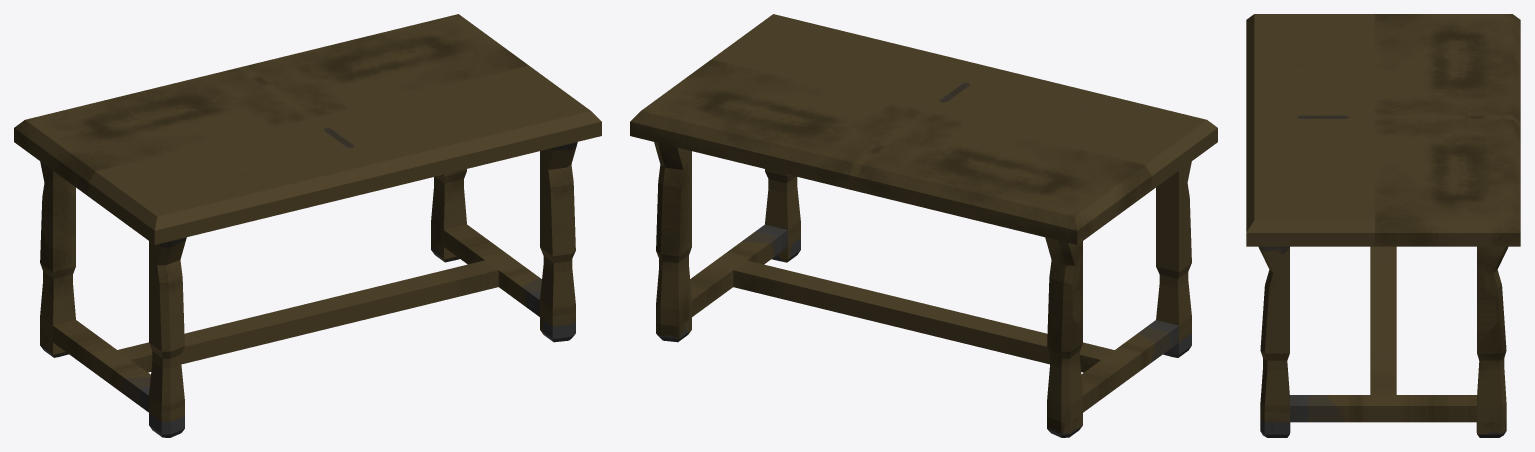
The model's file is Table_Wooden.fbx.
3 renders of one model, left to right at view 1: azimuth 30°, elevation 25°; view 2: azimuth 150°, elevation 25°; view 3: azimuth 270°, elevation 25°, orthographic. The views are drawn at different scales.
Parts seen in each view (by area): view 1: Cube; view 2: Cube; view 3: Cube.
Boxes of the visible parts, box(x1,y1,x2,y2) form: Cube: box(14, 14, 601, 437); Cube: box(630, 14, 1217, 437); Cube: box(1246, 14, 1520, 437).
Size of the model in its own units: 572 by 280 by 312.
